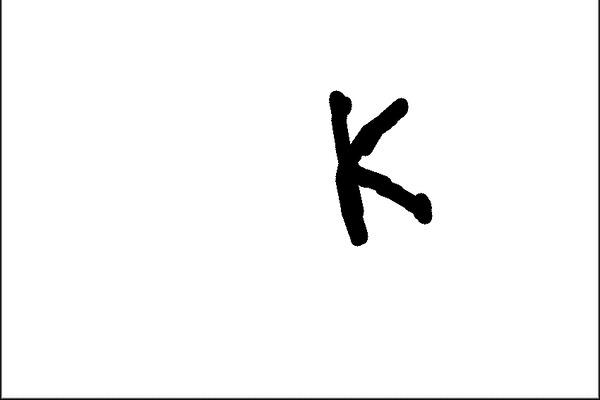K: (322, 81, 443, 252)
